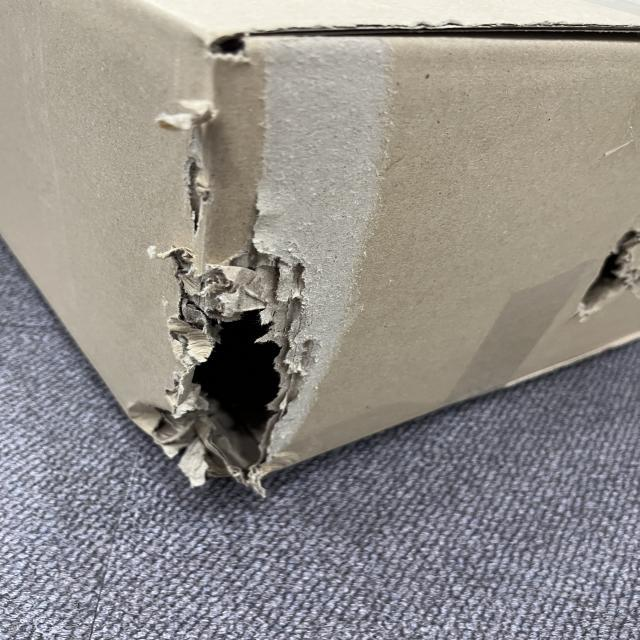hole: (147, 273, 311, 485), (587, 222, 640, 310)
